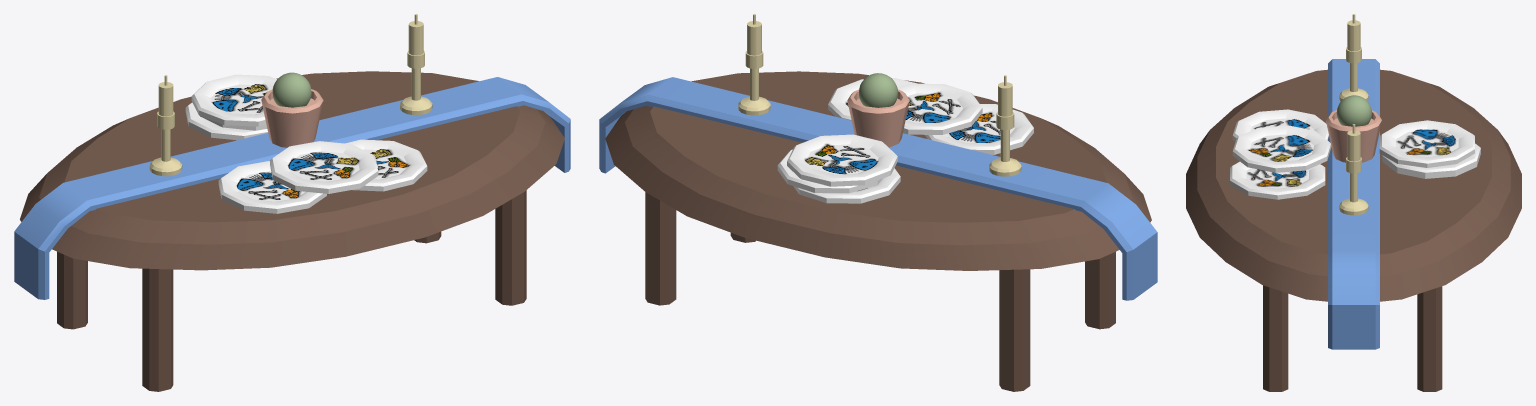
Rendered from geo_tableDirty_02.fbx.
3 views of the same model, side by side, from view 1: azimuth 30°, elevation 25°; view 2: azimuth 150°, elevation 25°; view 3: azimuth 270°, elevation 25° (orthographic). The views are drawn at different scales.
Visible parts, largest first — view 1: geo_tableTop_01, geo_tableRunner_01, geo_HighEmptyPlate_03, geo_tableLeg_02, geo_tableLeg_04, geo_HighEmptyPlate_06, geo_HighEmptyPlate_02, geo_HighEmptyPlate_01, geo_PlantContainer_01, geo_tableLeg_01, geo_candleTableTop_06, geo_candleTableTop_07 (+2 smaller); view 2: geo_tableTop_01, geo_tableRunner_01, geo_HighEmptyPlate_06, geo_tableLeg_01, geo_HighEmptyPlate_03, geo_tableLeg_03, geo_HighEmptyPlate_02, geo_PlantContainer_01, geo_tableLeg_02, geo_candleTableTop_06, geo_candleTableTop_07, geo_HighEmptyPlate_04 (+3 smaller); view 3: geo_tableTop_01, geo_tableRunner_01, geo_HighEmptyPlate_03, geo_HighEmptyPlate_06, geo_tableLeg_04, geo_tableLeg_03, geo_HighEmptyPlate_01, geo_PlantContainer_01, geo_HighEmptyPlate_02, geo_candleTableTop_07, geo_candleTableTop_06, geo_HighEmptyPlate_05 (+1 smaller).
Boxes of the visible parts, x1,y1,x2,y2 form: geo_tableTop_01: [20, 71, 564, 270]; geo_tableRunner_01: [14, 77, 570, 299]; geo_HighEmptyPlate_03: [270, 141, 378, 193]; geo_tableLeg_02: [142, 268, 173, 391]; geo_tableLeg_04: [495, 190, 526, 305]; geo_HighEmptyPlate_06: [191, 74, 276, 126]; geo_HighEmptyPlate_02: [218, 161, 326, 213]; geo_HighEmptyPlate_01: [345, 139, 427, 191]; geo_PlantContainer_01: [261, 89, 323, 147]; geo_tableLeg_01: [57, 251, 87, 329]; geo_candleTableTop_06: [149, 75, 182, 176]; geo_candleTableTop_07: [400, 14, 432, 115]; geo_tableTop_01: [605, 71, 1151, 270]; geo_tableRunner_01: [599, 77, 1157, 300]; geo_HighEmptyPlate_06: [787, 134, 897, 186]; geo_tableLeg_01: [999, 269, 1030, 391]; geo_HighEmptyPlate_03: [897, 83, 982, 134]; geo_tableLeg_03: [645, 192, 676, 305]; geo_HighEmptyPlate_02: [925, 104, 1033, 154]; geo_PlantContainer_01: [847, 89, 909, 147]; geo_tableLeg_02: [1085, 251, 1115, 329]; geo_candleTableTop_06: [989, 75, 1021, 176]; geo_candleTableTop_07: [738, 14, 770, 115]; geo_HighEmptyPlate_04: [793, 168, 900, 203]; geo_tableTop_01: [1186, 69, 1521, 301]; geo_tableRunner_01: [1328, 59, 1379, 349]; geo_HighEmptyPlate_03: [1232, 125, 1331, 172]; geo_HighEmptyPlate_06: [1379, 120, 1474, 167]; geo_tableLeg_04: [1263, 285, 1288, 391]; geo_tableLeg_03: [1417, 286, 1442, 391]; geo_HighEmptyPlate_01: [1230, 161, 1325, 199]; geo_PlantContainer_01: [1326, 110, 1381, 162]; geo_HighEmptyPlate_02: [1232, 109, 1328, 141]; geo_candleTableTop_07: [1339, 124, 1368, 215]; geo_candleTableTop_06: [1339, 14, 1368, 101]; geo_HighEmptyPlate_05: [1382, 143, 1480, 177].
Size of the model in its own units: 159 by 75.53 by 96.02.
6 materials, 1 textured.
